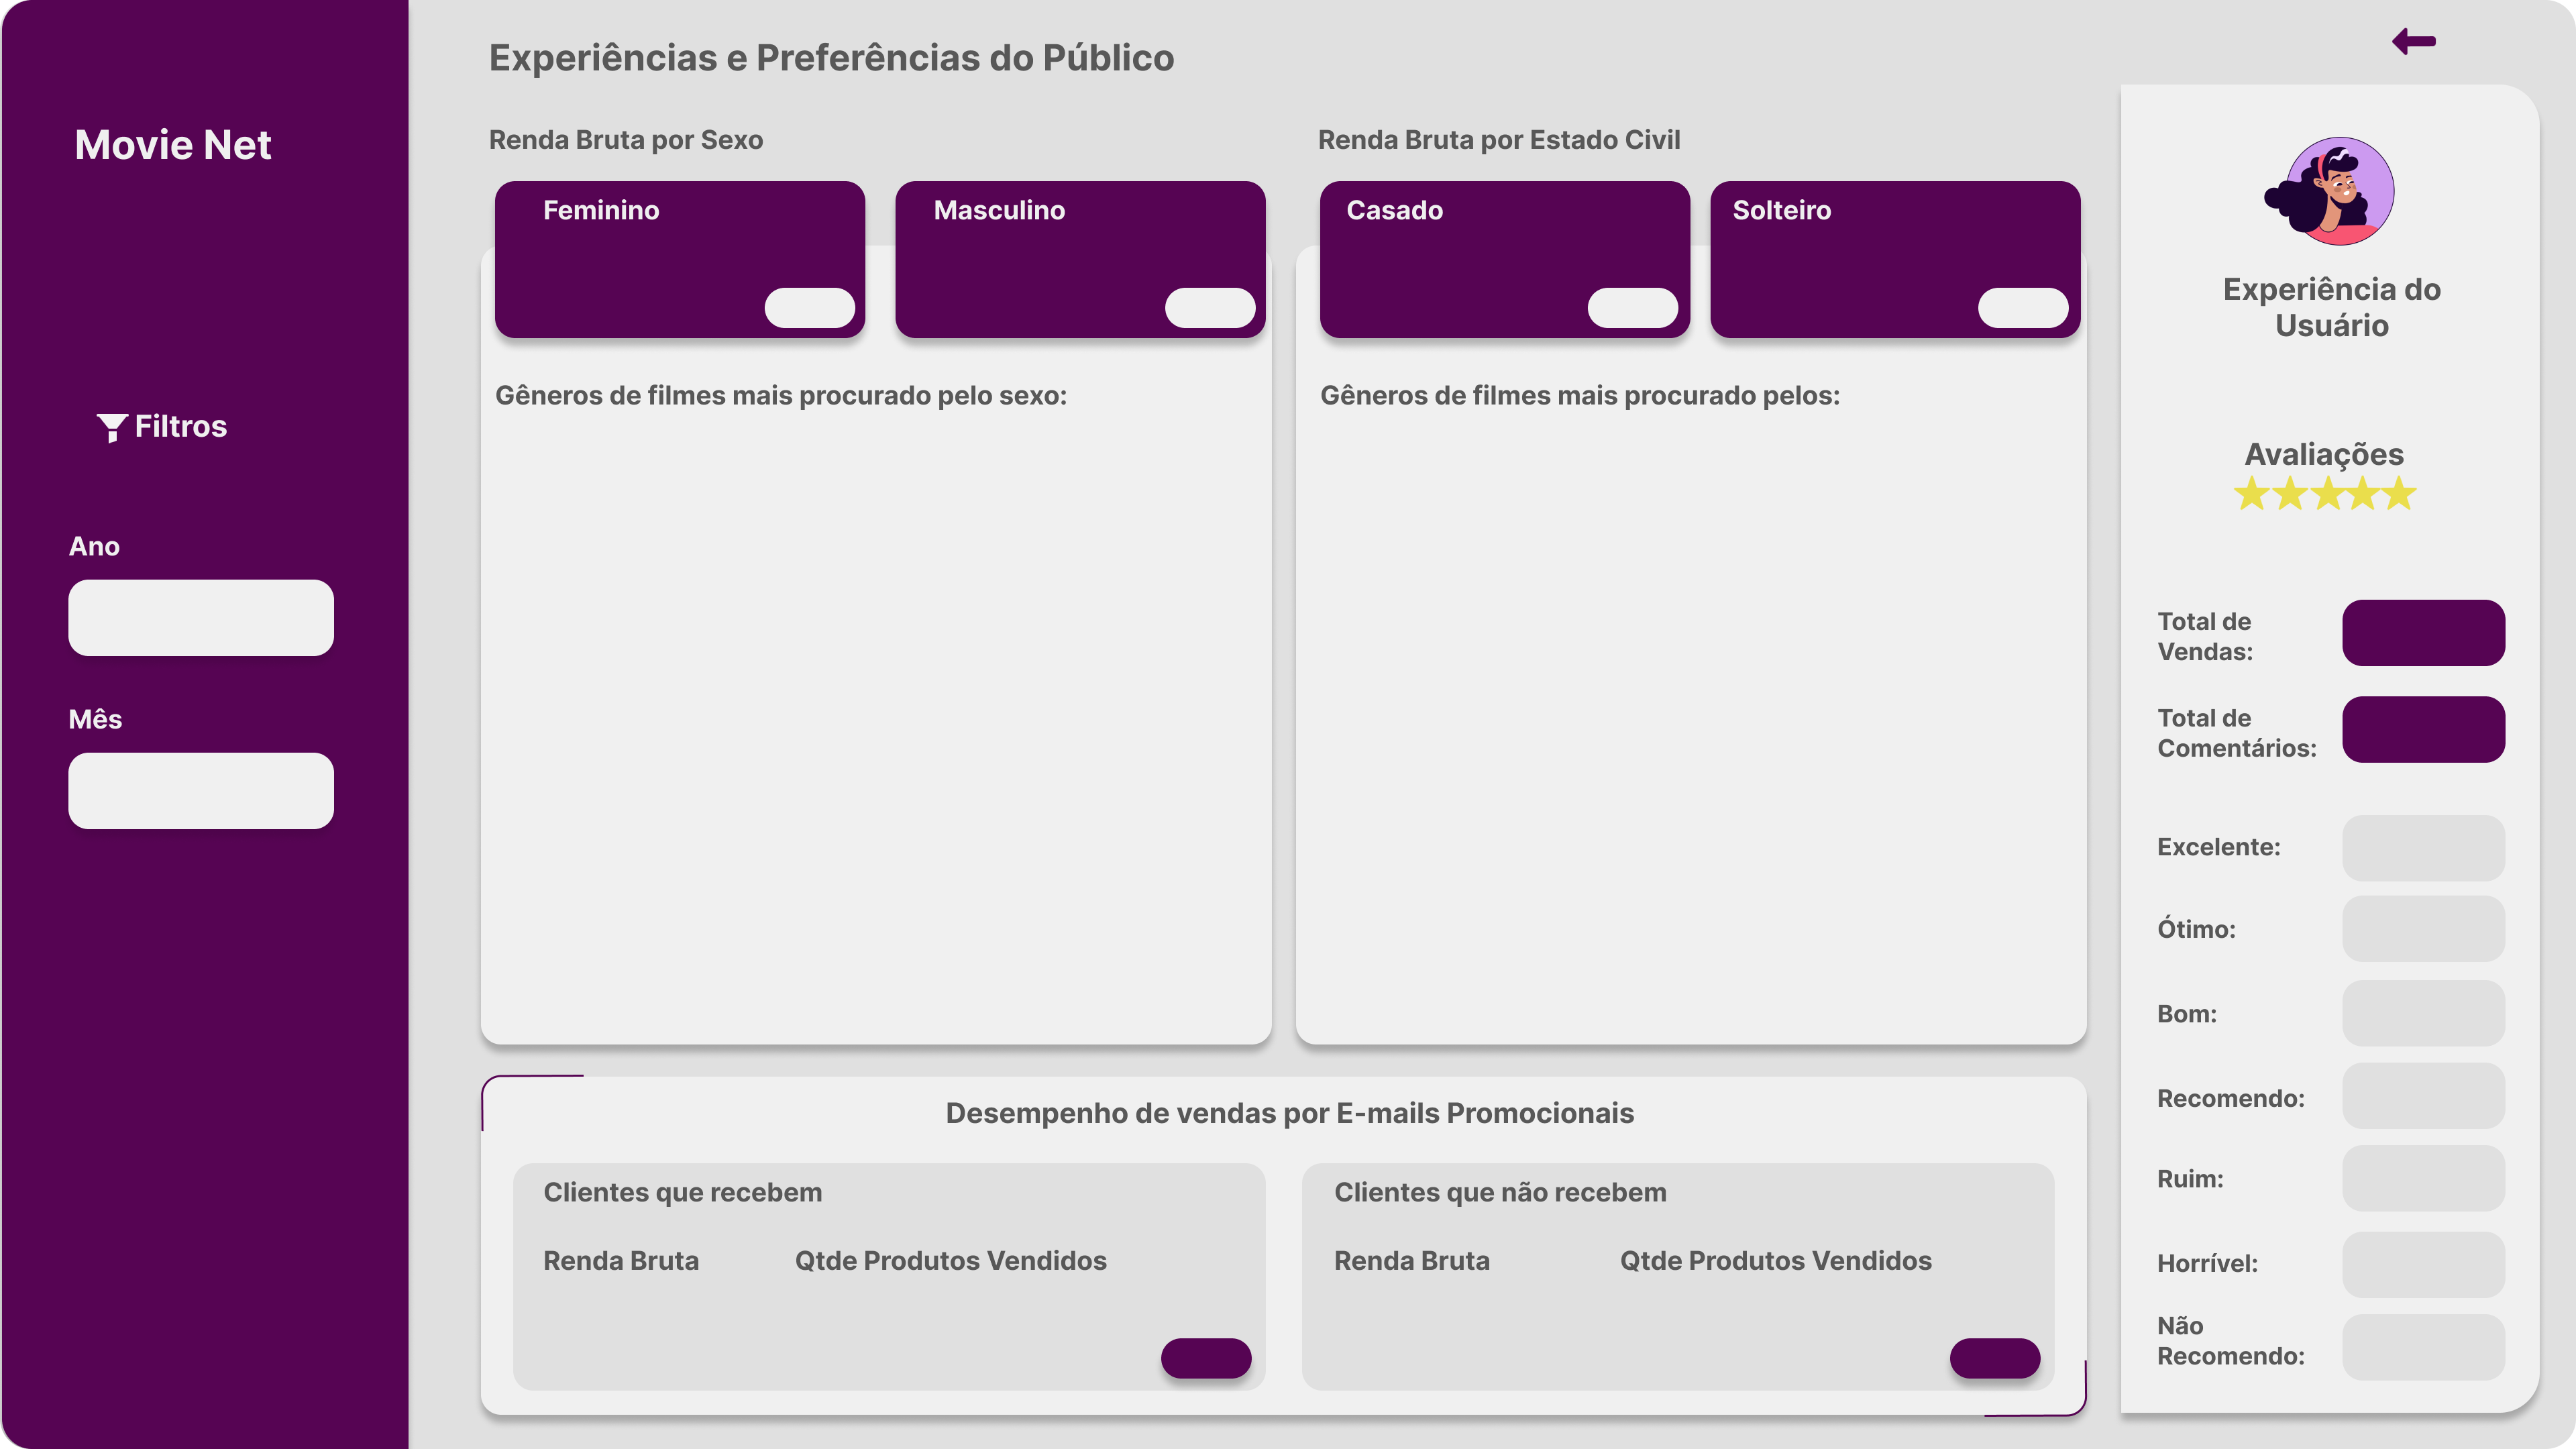

Layout of this report page (visuals, bound fields, positions):
{"tool":"powerbi","page":{"name":"Desempenhos","canvas":[1280,720],"ordinal":3},"visuals":[{"type":"card","fields":{"Values":["Medidas_Complementares.23 Venda_Solteiro"]},"box":[837.2,113.6,165.9,33.2],"z":0},{"type":"card","fields":{"Values":["Medidas_Complementares.28 % Venda_Solteiro"]},"box":[977.3,137.5,59.3,35.3],"z":1000},{"type":"card","fields":{"Values":["Medidas_Complementares.24 Venda_Casado"]},"box":[640.6,104.6,165.9,53.6],"z":2000},{"type":"card","fields":{"Values":["Medidas_Complementares.29 % Venda_Casado"]},"box":[779.8,137.9,66.4,33.8],"z":3000},{"type":"card","fields":{"Values":["Medidas_Complementares.21 Venda_Sexo_Feminino"]},"box":[242.5,112.3,158.2,40.8],"z":4000},{"type":"card","fields":{"Values":["Medidas_Complementares.26 % Venda_Sexo_Feminino"]},"box":[377.4,139.2,53.9,23.8],"z":5000},{"type":"card","fields":{"Values":["Medidas_Complementares.22 Venda_Sexo_Masculino"]},"box":[432.6,107.2,168.5,49.8],"z":6000},{"type":"card","fields":{"Values":["Medidas_Complementares.27 % Venda_Sexo_Masculino"]},"box":[573.8,140,58,30.3],"z":7000},{"type":"barChart","fields":{"Y":["Medidas_Complementares.38 Qtde_Produto_Feminino"],"Category":["Dim_Genero_Filme.Nome_Genero"]},"box":[243.2,223.2,384.9,283.3],"z":8000},{"type":"barChart","fields":{"Y":["Medidas_Complementares.41 Qtde_Produto_Solteiro"],"Category":["Dim_Genero_Filme.Nome_Genero"]},"box":[645,217.8,389.2,294],"z":9000},{"type":"card","fields":{"Values":["Medidas_Complementares.04 Qtde_Nota_Venda_Distinta"]},"box":[1164,298.9,83.2,32.8],"z":10000},{"type":"card","fields":{"Values":["Medidas_Complementares.12 % Comentarioo_Bom"]},"box":[1164,488,79.4,31.5],"z":11000},{"type":"card","fields":{"Values":["Medidas_Complementares.Teste"]},"box":[1164,348.1,80.7,31.5],"z":12000},{"type":"card","fields":{"Values":["Medidas_Complementares.13 % Comentario_Excelente"]},"box":[1164,407.3,79.4,26.5],"z":13000},{"type":"card","fields":{"Values":["Medidas_Complementares.14 % Comentario_Otimo"]},"box":[1164,448.9,79.4,26.5],"z":14000},{"type":"card","fields":{"Values":["Medidas_Complementares.15 % Comentario_Recomendo"]},"box":[1164,529.7,79.4,25.2],"z":15000},{"type":"card","fields":{"Values":["Medidas_Complementares.16 % Comentario_Ruim"]},"box":[1164,568.7,80.7,32.8],"z":16000},{"type":"card","fields":{"Values":["Medidas_Complementares.17 % Comentario_Horrivel"]},"box":[1164,615.4,79.4,26.5],"z":17000},{"type":"card","fields":{"Values":["Medidas_Complementares.18 % Comentario_NaoRecomendo"]},"box":[1164,652,79.4,35.3],"z":18000},{"type":"card","fields":{"Values":["Medidas_Complementares.30 Venda_Recebe_Email"]},"box":[243.2,640.6,147.9,41.4],"z":19000},{"type":"card","fields":{"Values":["Medidas_Complementares.31 Venda_Nao_Recebe_Email"]},"box":[629.6,642.6,173.8,36.9],"z":20000},{"type":"card","fields":{"Values":["Medidas_Complementares.32 % Venda_Recebe_Email"]},"box":[569.2,658.2,61.4,36.4],"z":21000},{"type":"card","fields":{"Values":["Medidas_Complementares.33 % Venda_Não_Recebem_Email"]},"box":[966.6,661.9,53.9,26.3],"z":22000},{"type":"slicer","fields":{"Values":["Dim_Tempo.Ano"]},"box":[34,283.7,129.9,46.7],"z":23000},{"type":"slicer","fields":{"Values":["Dim_Tempo.Nome_Mes"]},"box":[34,369.5,129.9,46.7],"z":24000},{"type":"card","fields":{"Values":["Medidas_Complementares.34 Produtos_Recebe_Email"]},"box":[411.2,641.9,135.4,41.4],"z":25000},{"type":"card","fields":{"Values":["Medidas_Complementares.35 Produtos_Nao_Recebe_Email"]},"box":[824.9,643.1,127.9,36.4],"z":26000},{"type":"actionButton","box":[1181,10,32.6,23.8],"z":27000},{"type":"slicer","fields":{"Values":["Qtde_Produto_Sexo.Qtde_Produto_Sexo"]},"box":[520.7,171,120,44.7],"z":28000},{"type":"slicer","fields":{"Values":["Qtde_Produto_EstadoCivil.Qtde_Produto_EstadoCivil"]},"box":[912.5,171,117.4,44.7],"z":29000}]}

Visuals, with their boxes in screenshot pixels (x1, y1, x2, y2), scaled from the page's 1280x720 canvas onto the 2576x1449 screenshot:
card - Medidas_Complementares.23 Venda_Solteiro: bbox=(1685, 229, 2019, 295)
card - Medidas_Complementares.28 % Venda_Solteiro: bbox=(1967, 276, 2086, 347)
card - Medidas_Complementares.24 Venda_Casado: bbox=(1289, 211, 1623, 319)
card - Medidas_Complementares.29 % Venda_Casado: bbox=(1569, 278, 1703, 345)
card - Medidas_Complementares.21 Venda_Sexo_Feminino: bbox=(488, 226, 806, 308)
card - Medidas_Complementares.26 % Venda_Sexo_Feminino: bbox=(759, 280, 868, 328)
card - Medidas_Complementares.22 Venda_Sexo_Masculino: bbox=(871, 216, 1210, 316)
card - Medidas_Complementares.27 % Venda_Sexo_Masculino: bbox=(1155, 282, 1271, 343)
barChart - Medidas_Complementares.38 Qtde_Produto_Feminino x Dim_Genero_Filme.Nome_Genero: bbox=(490, 449, 1264, 1020)
barChart - Medidas_Complementares.41 Qtde_Produto_Solteiro x Dim_Genero_Filme.Nome_Genero: bbox=(1298, 438, 2082, 1030)
card - Medidas_Complementares.04 Qtde_Nota_Venda_Distinta: bbox=(2343, 602, 2510, 667)
card - Medidas_Complementares.12 % Comentarioo_Bom: bbox=(2343, 982, 2502, 1045)
card - Medidas_Complementares.Teste: bbox=(2343, 700, 2505, 764)
card - Medidas_Complementares.13 % Comentario_Excelente: bbox=(2343, 820, 2502, 873)
card - Medidas_Complementares.14 % Comentario_Otimo: bbox=(2343, 904, 2502, 957)
card - Medidas_Complementares.15 % Comentario_Recomendo: bbox=(2343, 1066, 2502, 1117)
card - Medidas_Complementares.16 % Comentario_Ruim: bbox=(2343, 1144, 2505, 1210)
card - Medidas_Complementares.17 % Comentario_Horrivel: bbox=(2343, 1238, 2502, 1292)
card - Medidas_Complementares.18 % Comentario_NaoRecomendo: bbox=(2343, 1312, 2502, 1383)
card - Medidas_Complementares.30 Venda_Recebe_Email: bbox=(490, 1289, 787, 1373)
card - Medidas_Complementares.31 Venda_Nao_Recebe_Email: bbox=(1267, 1293, 1617, 1367)
card - Medidas_Complementares.32 % Venda_Recebe_Email: bbox=(1146, 1325, 1269, 1398)
card - Medidas_Complementares.33 % Venda_Não_Recebem_Email: bbox=(1945, 1332, 2054, 1385)
slicer - Dim_Tempo.Ano: bbox=(68, 571, 330, 665)
slicer - Dim_Tempo.Nome_Mes: bbox=(68, 743, 330, 838)
card - Medidas_Complementares.34 Produtos_Recebe_Email: bbox=(828, 1292, 1100, 1375)
card - Medidas_Complementares.35 Produtos_Nao_Recebe_Email: bbox=(1660, 1294, 1917, 1367)
actionButton: bbox=(2377, 20, 2443, 68)
slicer - Qtde_Produto_Sexo.Qtde_Produto_Sexo: bbox=(1048, 344, 1289, 434)
slicer - Qtde_Produto_EstadoCivil.Qtde_Produto_EstadoCivil: bbox=(1837, 344, 2073, 434)
